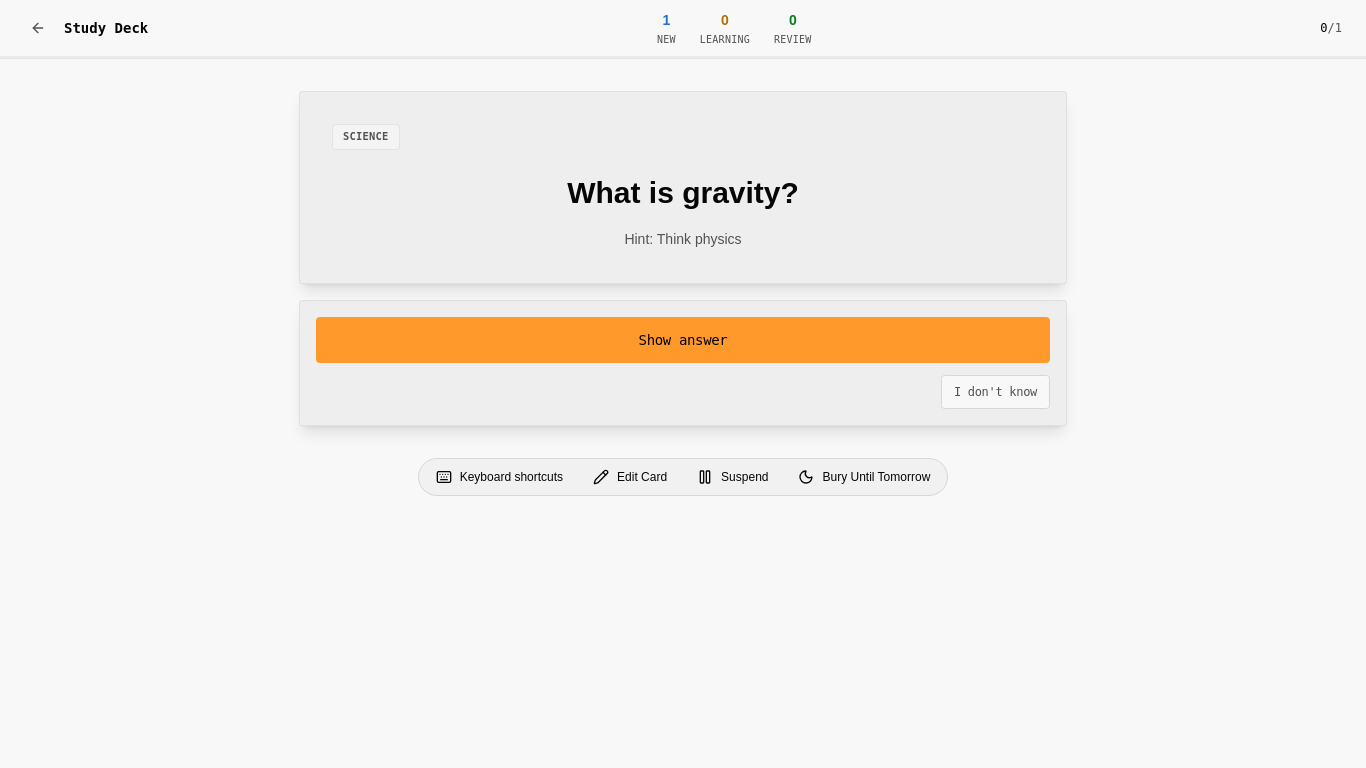
Test: StudyScreen › keeps the current card visible when review submission fails
The image size is (1366, 768).
Expected: the heading "What is gravity?" is shown, [567, 174, 799, 211]
Click the button "Show answer": x=683, y=340 [316, 317, 1050, 363]
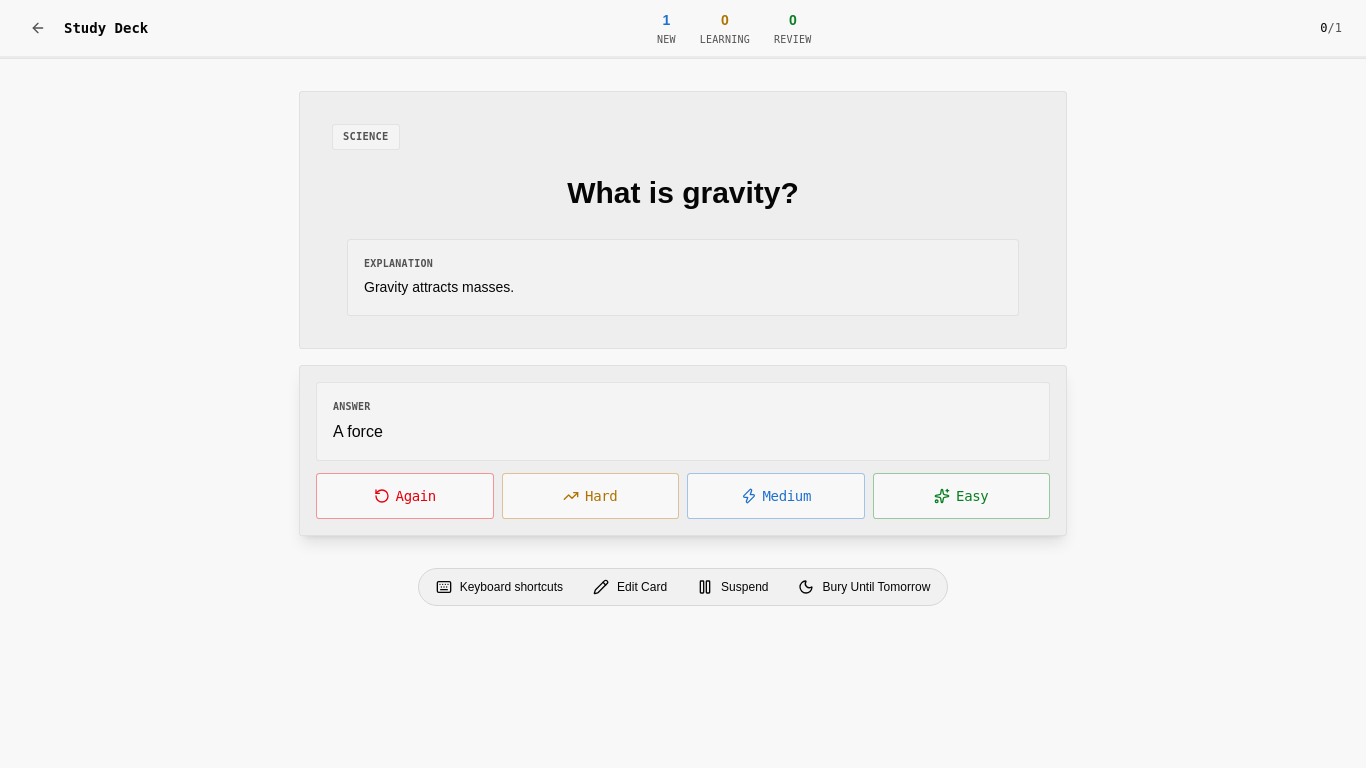
Click the button "Medium": x=776, y=496 [687, 473, 864, 519]
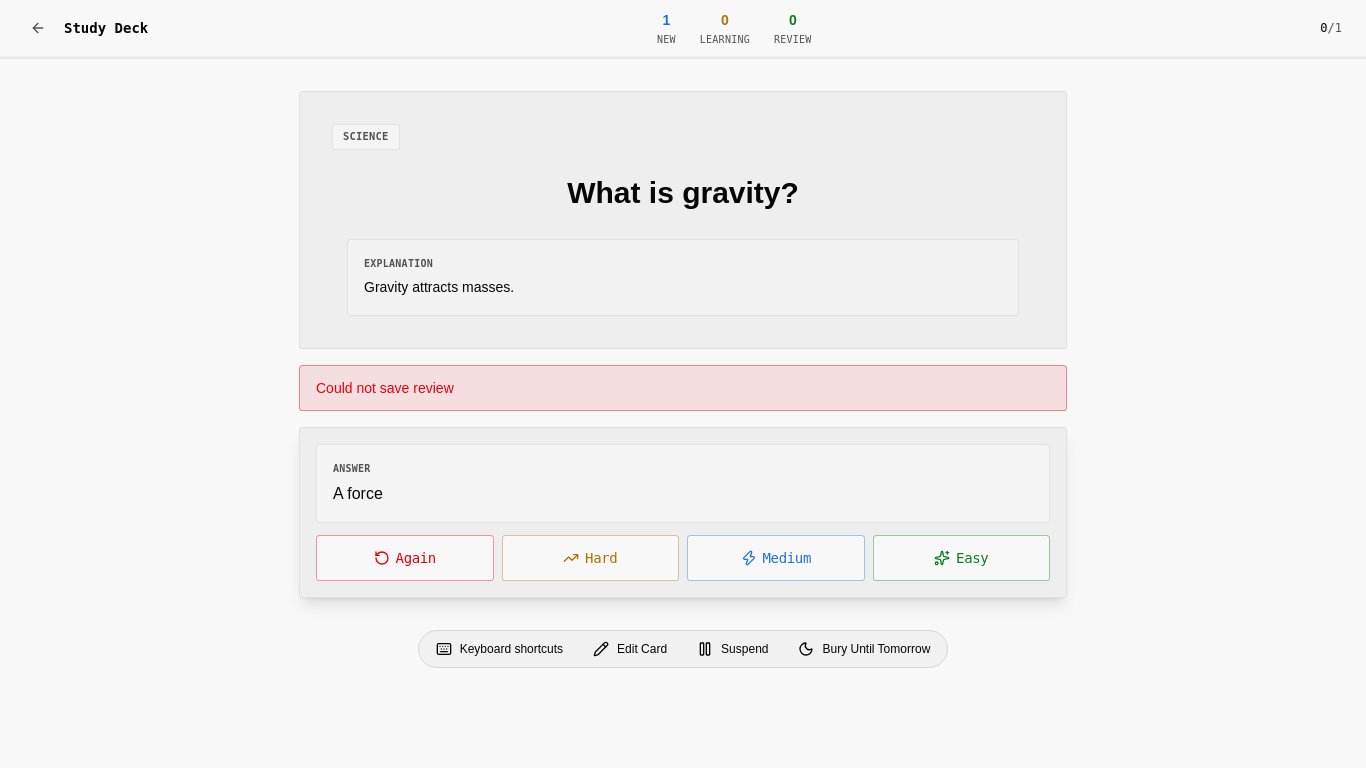
Expected: the heading "What is gravity?" is shown, [567, 174, 799, 211]
Expected: the message reads "Could not save review", [316, 380, 454, 396]
